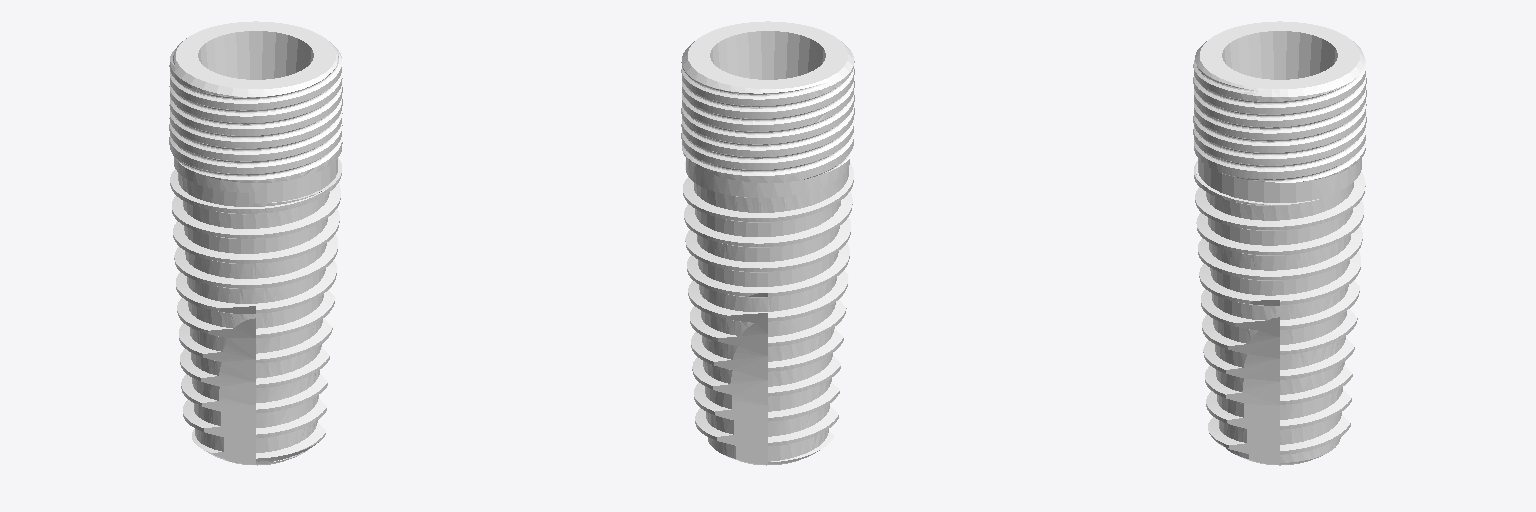
File: yiliao.obj
3 views of the same model, side by side, from view 1: azimuth 30°, elevation 25°; view 2: azimuth 150°, elevation 25°; view 3: azimuth 270°, elevation 25° (orthographic).
Parts seen in each view (by area): view 1: 1_0_1_implant_1_0; view 2: 1_0_1_implant_1_0; view 3: 1_0_1_implant_1_0.
Boxes of the visible parts, <box> form: 1_0_1_implant_1_0: <box>169,21,342,465</box>; 1_0_1_implant_1_0: <box>681,21,854,465</box>; 1_0_1_implant_1_0: <box>1193,21,1366,465</box>.
Size of the model in its own units: 4.3 by 11 by 4.3.